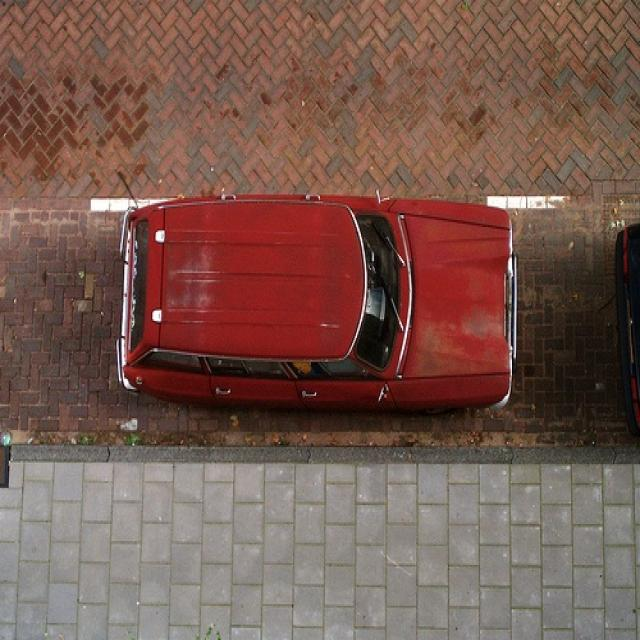car: (116, 186, 521, 410)
